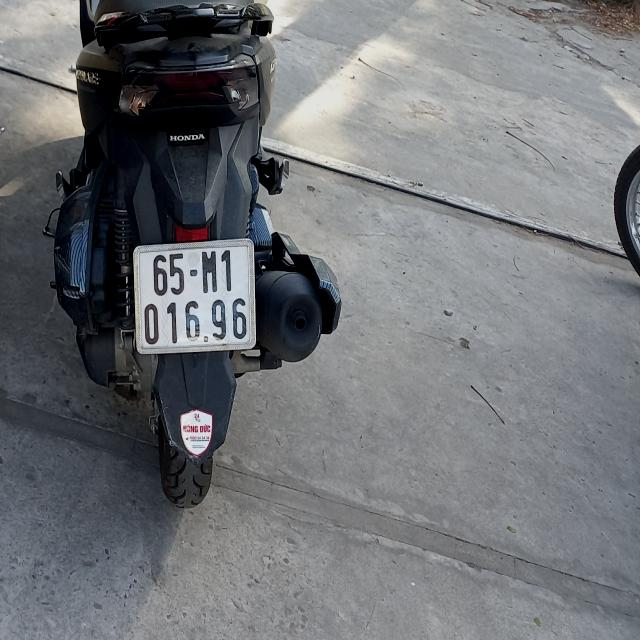0: (144, 300, 160, 347)
1: (164, 299, 181, 343), (221, 247, 235, 292)
5: (168, 250, 186, 298)
6: (150, 251, 168, 296), (182, 298, 200, 342), (232, 297, 250, 340)
9: (211, 299, 226, 340)
M: (198, 250, 222, 299)
